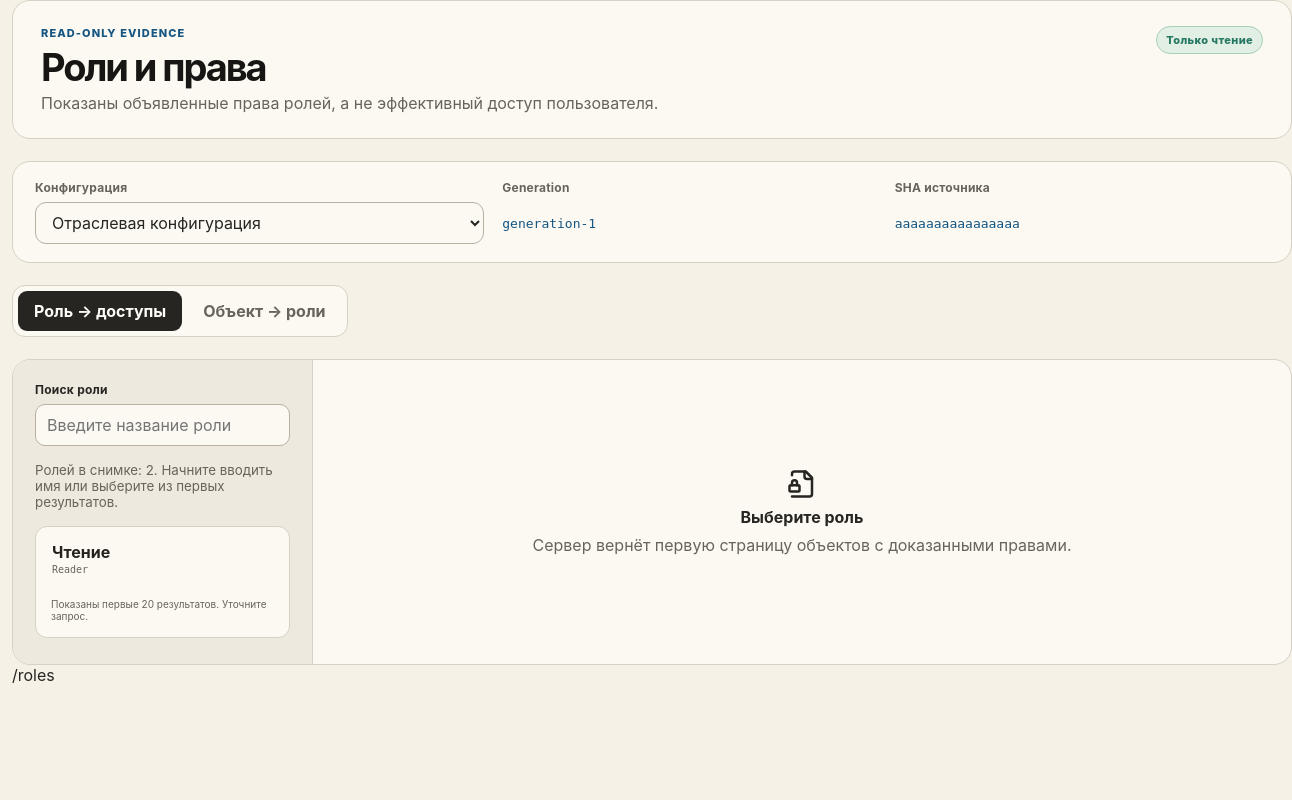
Scenario: ищет роли на сервере без бесконечной кнопки подгрузки
This screenshot has width=1292, height=800.
Expected: the button "Чтение Reader" is shown, [42,533,283,584]
Type "ред" into the dropdown labelled "Поиск роли" at (162, 425), box [35,404,290,446]
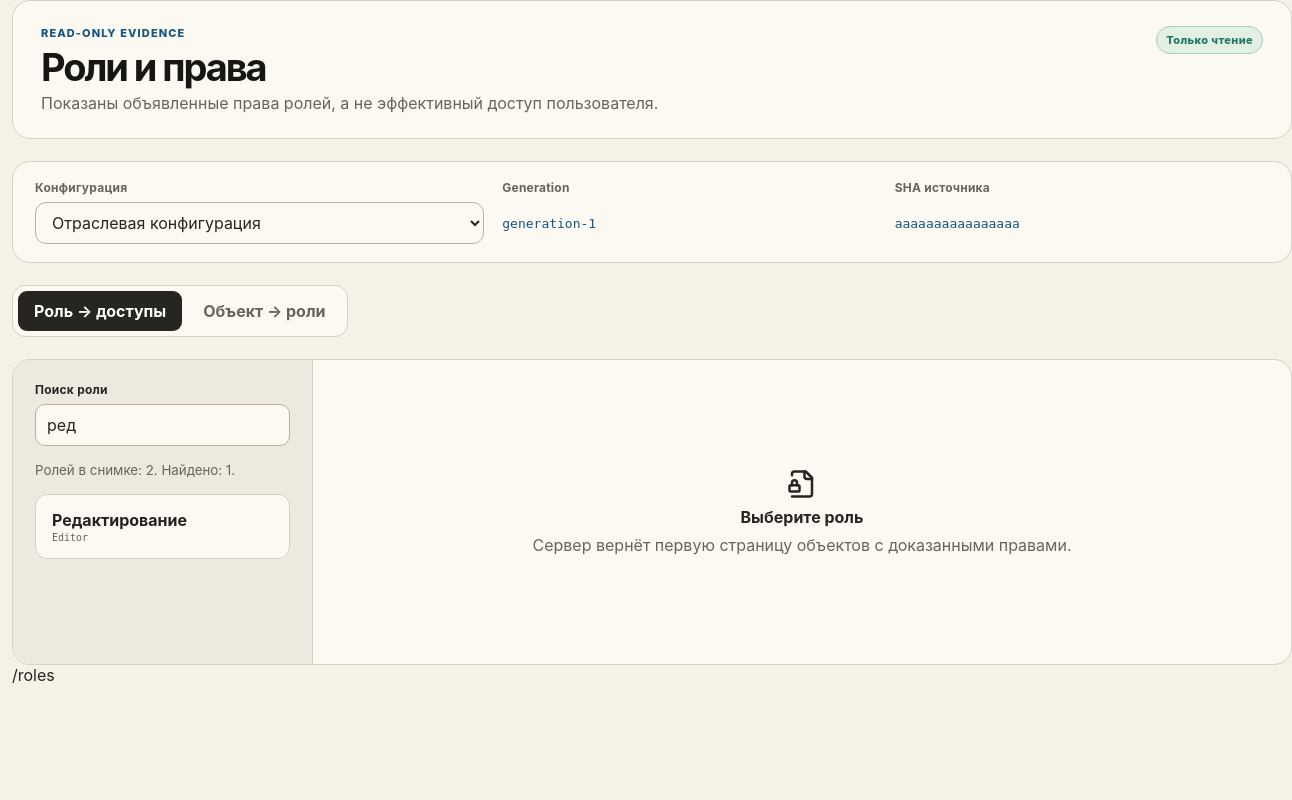
Expected: the button "Редактирование Editor" is shown, [42,501,283,552]
